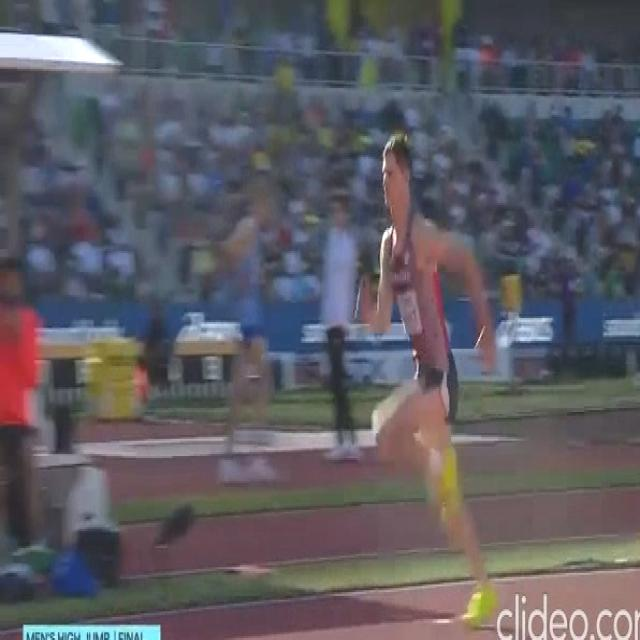run: (356, 134, 494, 623)
